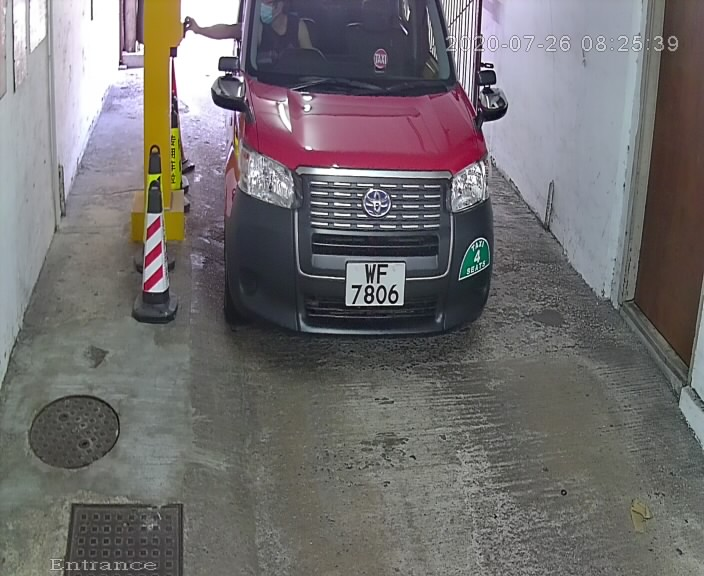taxi: (193, 1, 517, 351)
taxi_mark: (456, 229, 496, 283)
